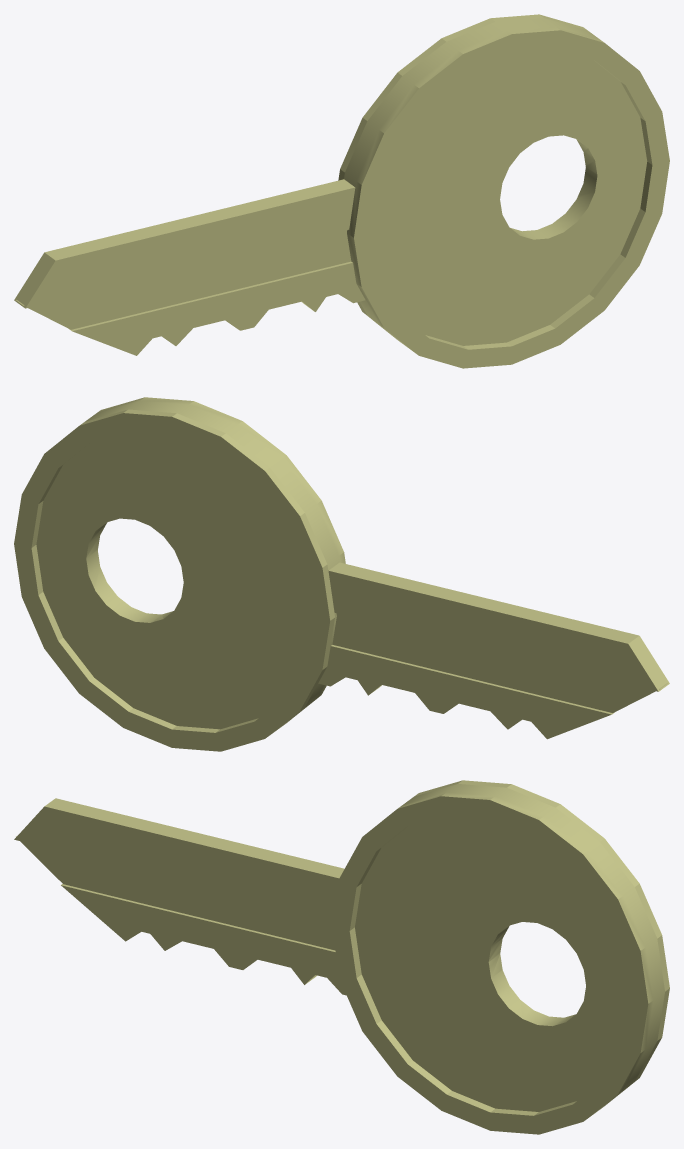
Rendered from key.fbx.
3 renders of one model, top to bottom at view 1: azimuth 30°, elevation 25°; view 2: azimuth 150°, elevation 25°; view 3: azimuth 330°, elevation 25°, orthographic.
Parts seen in each view (by area): view 1: key; view 2: key; view 3: key.
Part boxes in pixels (left/top/right/bottom): key: left=14, top=14, right=669, bottom=368; key: left=14, top=397, right=669, bottom=751; key: left=14, top=780, right=669, bottom=1134.
Bounding box in the file's own units: 5.54 × 2.74 × 0.3279.
